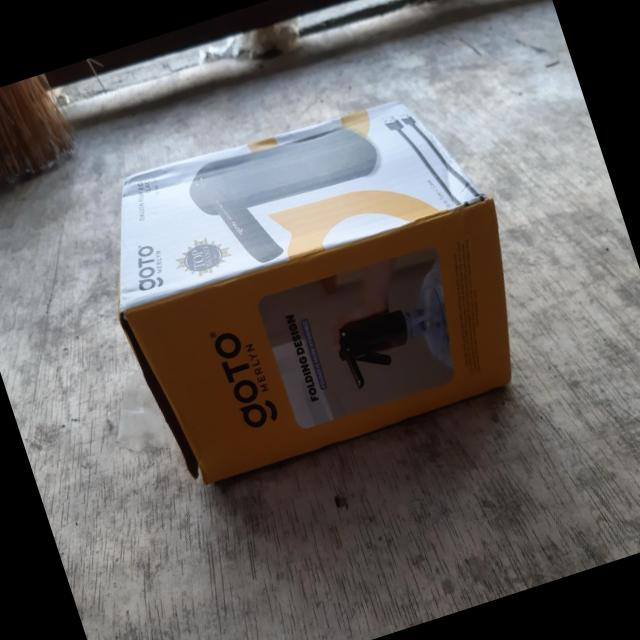Kardus: (77, 70, 550, 498)
